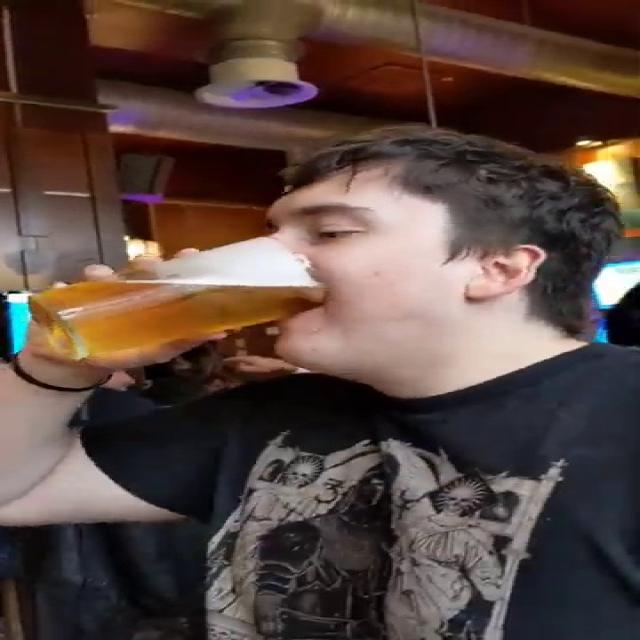Cup: (28, 238, 324, 359)
Hand: (25, 245, 231, 375)
Mouth: (271, 273, 359, 334)
